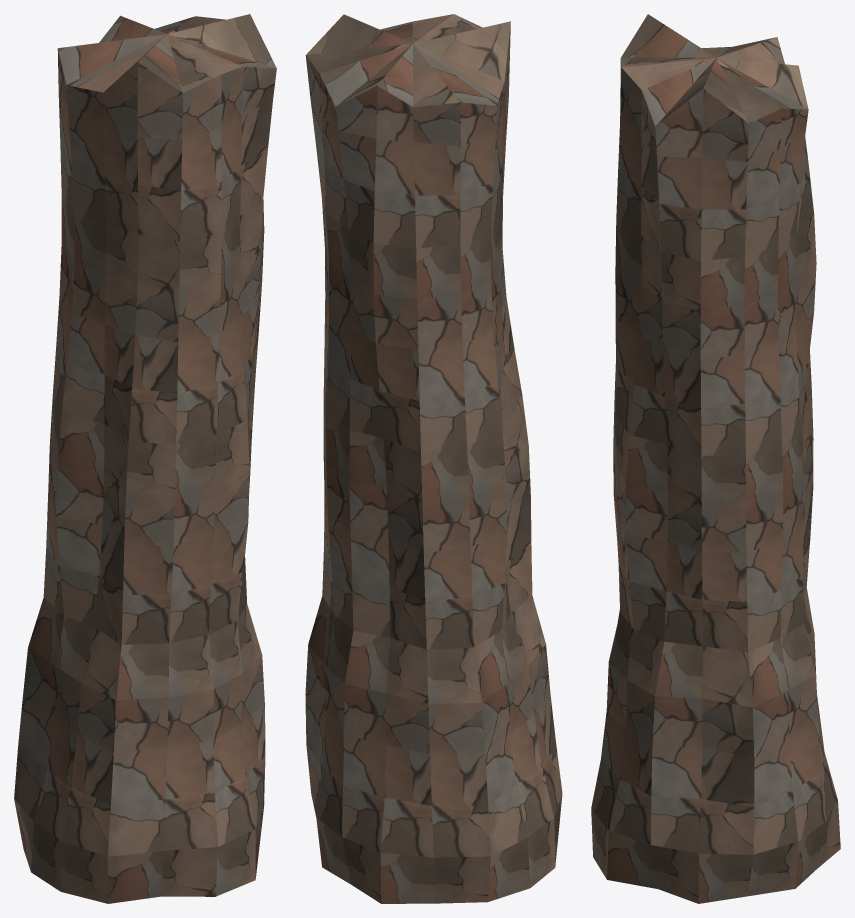
The model's file is CanyonBeam_StubA.gltf.
3 renders of one model, left to right at view 1: azimuth 30°, elevation 25°; view 2: azimuth 150°, elevation 25°; view 3: azimuth 270°, elevation 25°, orthographic.
Parts seen in each view (by area): view 1: CanyonBeam_StubA; view 2: CanyonBeam_StubA; view 3: CanyonBeam_StubA.
Boxes of the visible parts, box(x1,y1,x2,y2) form: CanyonBeam_StubA: box(14, 14, 276, 903); CanyonBeam_StubA: box(305, 14, 562, 903); CanyonBeam_StubA: box(591, 14, 840, 903).
Bounding box in the file's own units: 9.15 × 33.01 × 9.12.
1 material, 1 textured.
